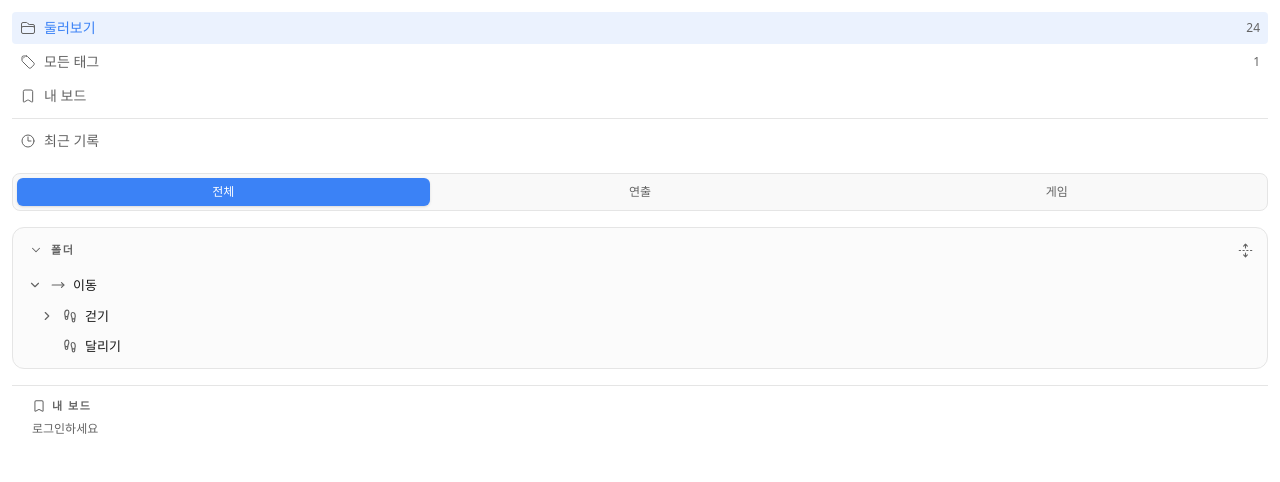
Test: LeftPanelContent › toggles the entire tree from the header action button and swaps the action label
The image size is (1280, 482).
Expected: the text "천천히 걷기" is not shown
Click the button named "폴더 전체 펼치기": (1245, 250) x1=1229 y1=234 x2=1261 y2=266
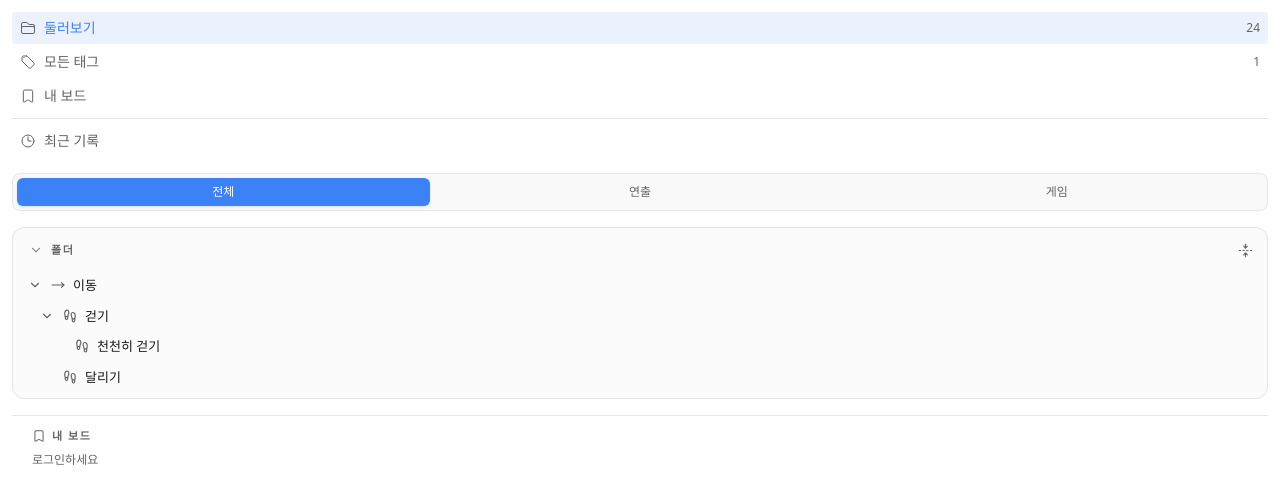
Now the text "천천히 걷기" is shown, box x1=97 y1=337 x2=160 y2=355
Now the button named "폴더 전체 접기" is shown
Click the button named "폴더 전체 접기": (1245, 250) x1=1229 y1=234 x2=1261 y2=266
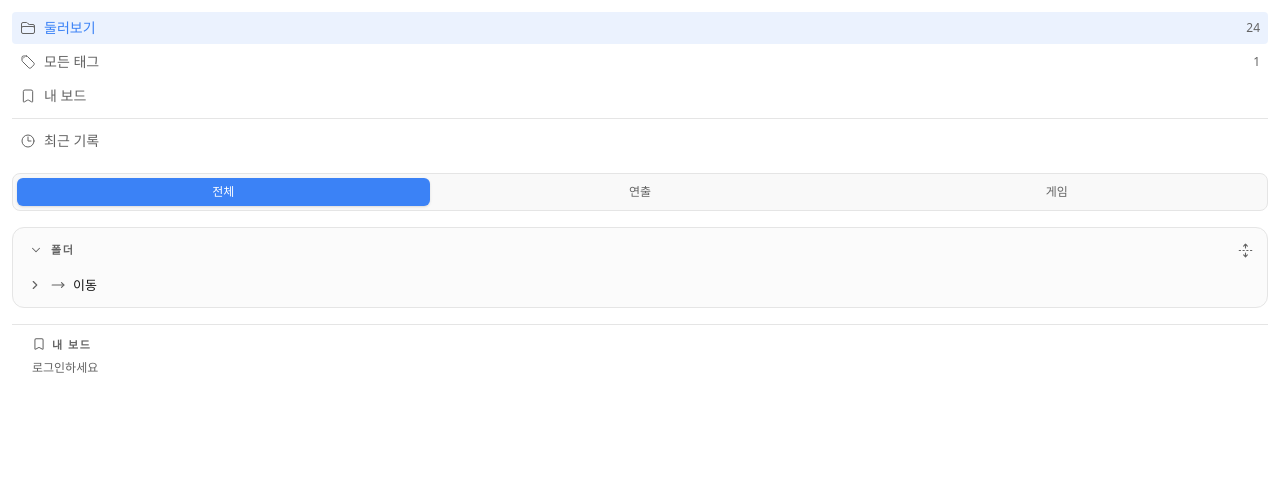
Now the text "걷기" is gone
Now the text "달리기" is gone
Now the button named "폴더 전체 펼치기" is shown, box x1=1229 y1=234 x2=1261 y2=266
